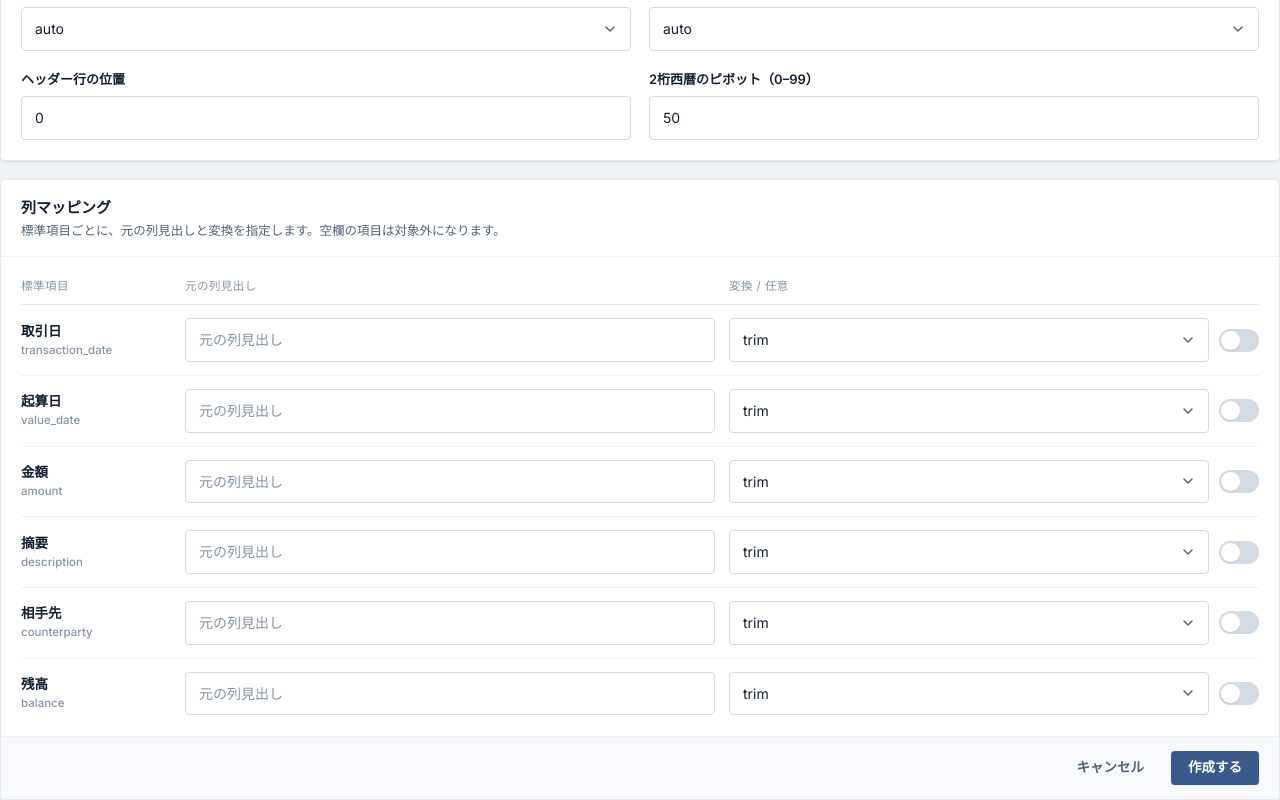
Test: CreatePresetForm › requires a name and bank label
(page scrolled)
Click the button with test id "preset-create-submit" at x=1215, y=768, box [1171,751,1259,785]
(page scrolled)
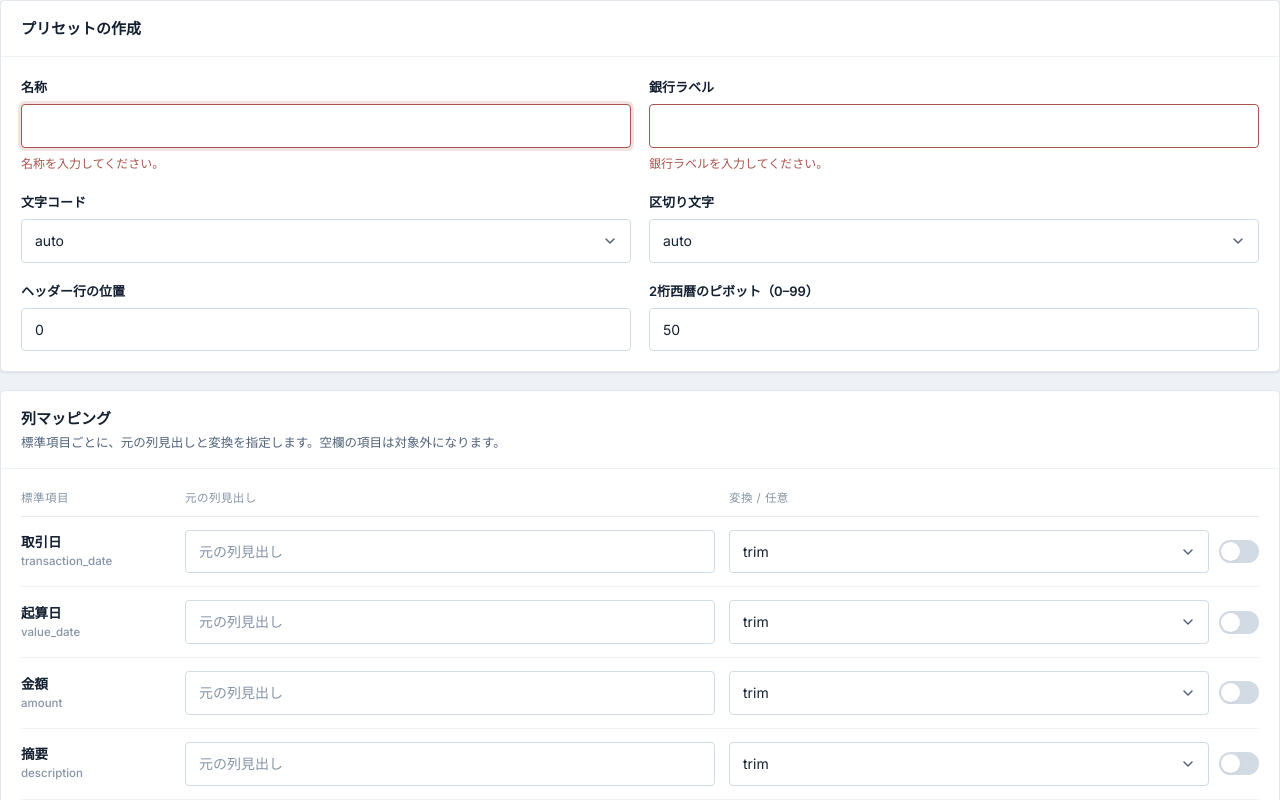
Now the text "名称を入力してください。" is shown, box [21,156,164,171]
Now the text "銀行ラベルを入力してください。" is shown, box [649,156,828,171]
